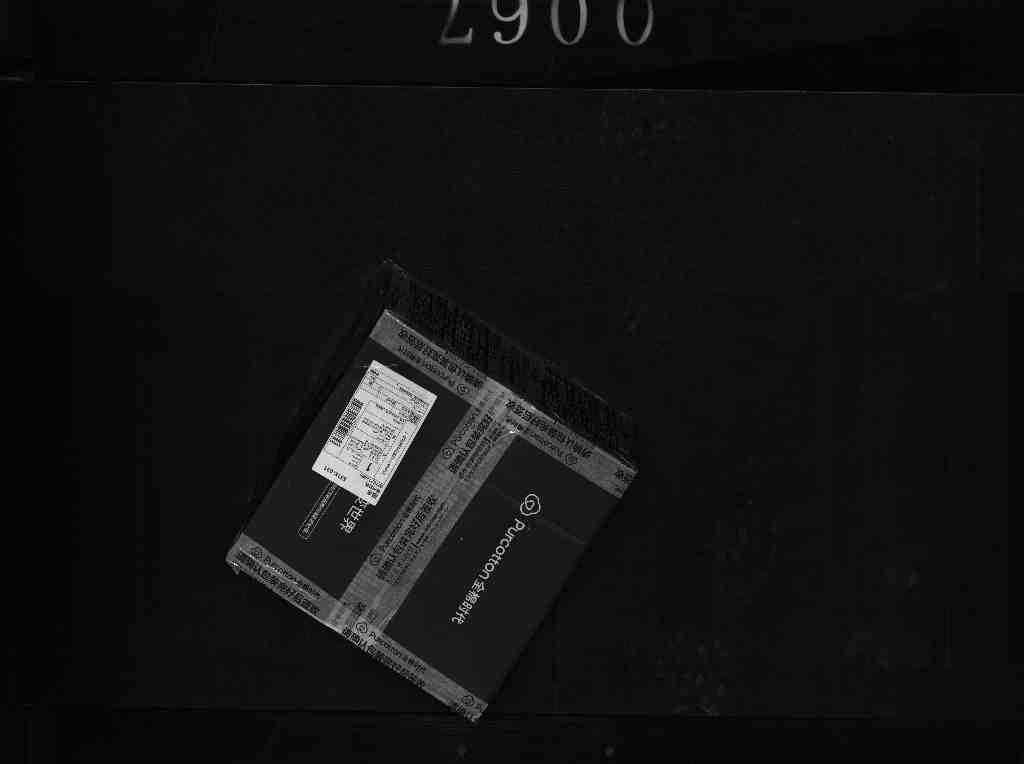box: (217, 246, 649, 726)
